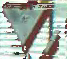Give way: (3, 1, 48, 51)
